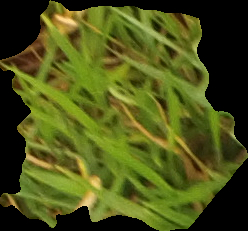grass: (1, 1, 247, 229)
